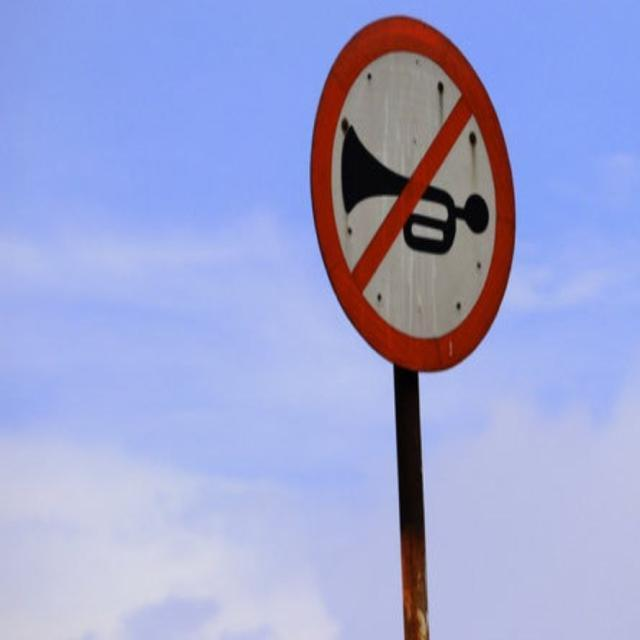horn prohibited: (309, 12, 520, 375)
